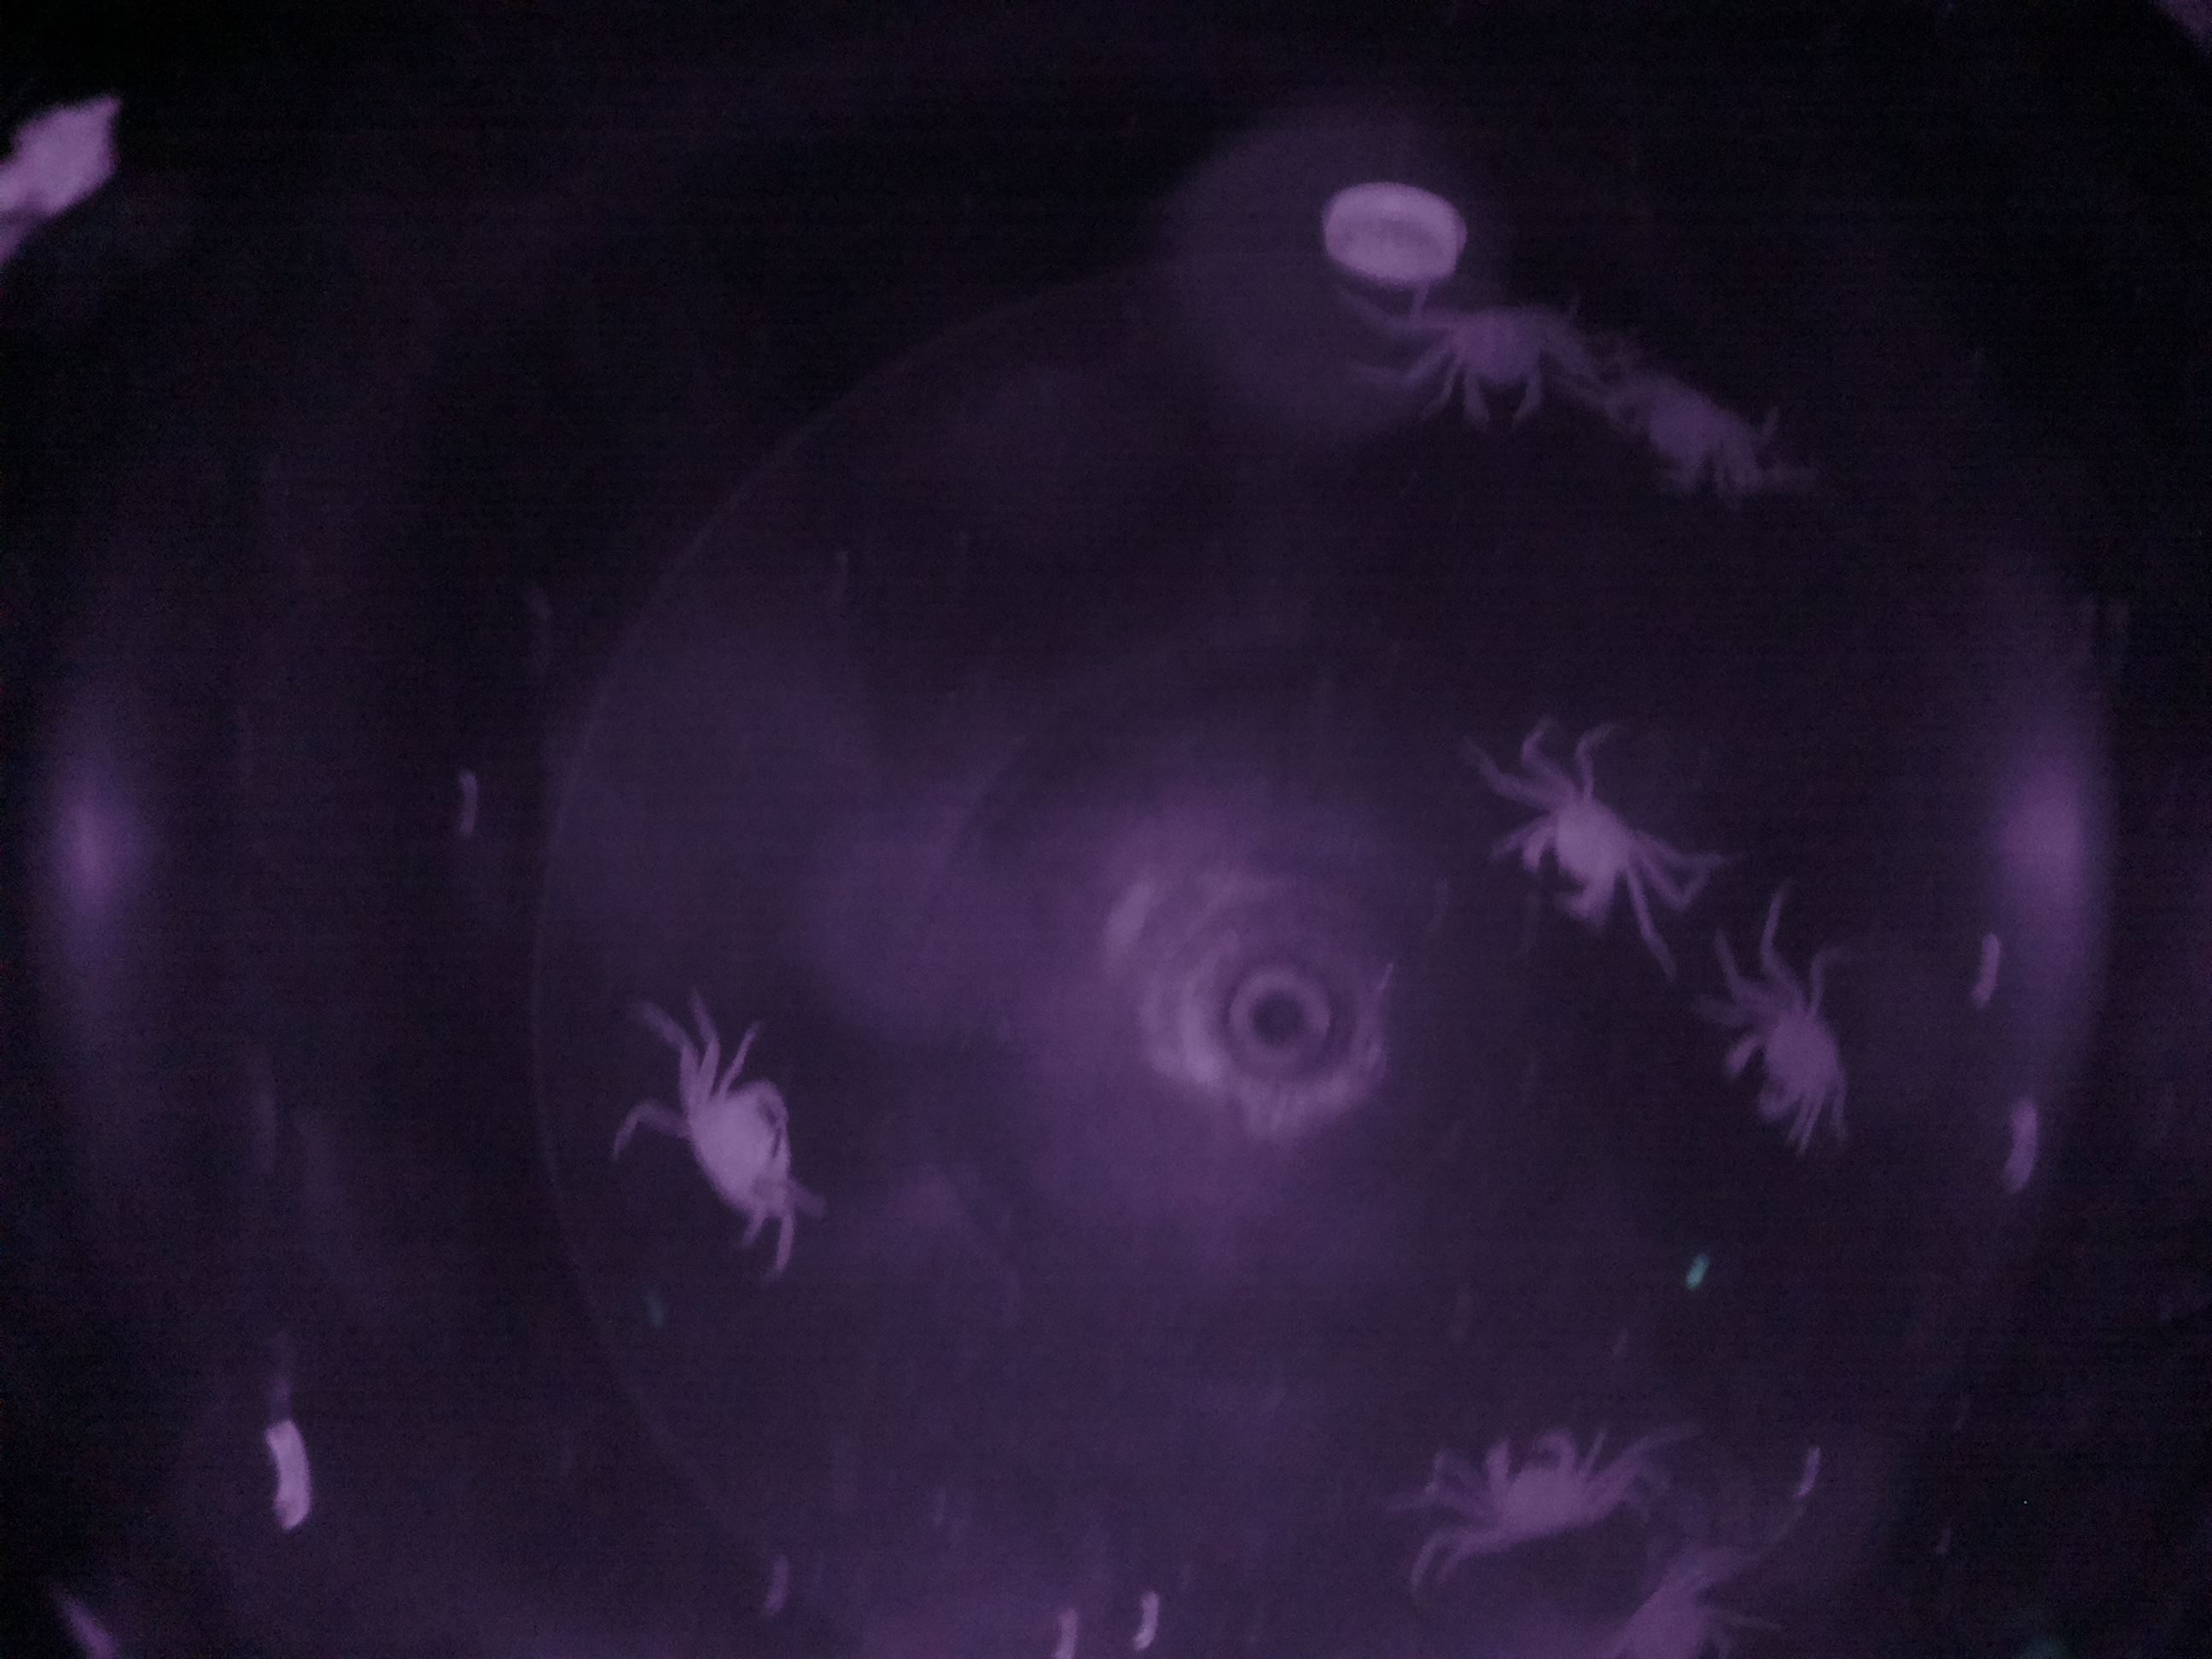Crab: (646, 1030, 827, 1255), (1491, 751, 1674, 964)
